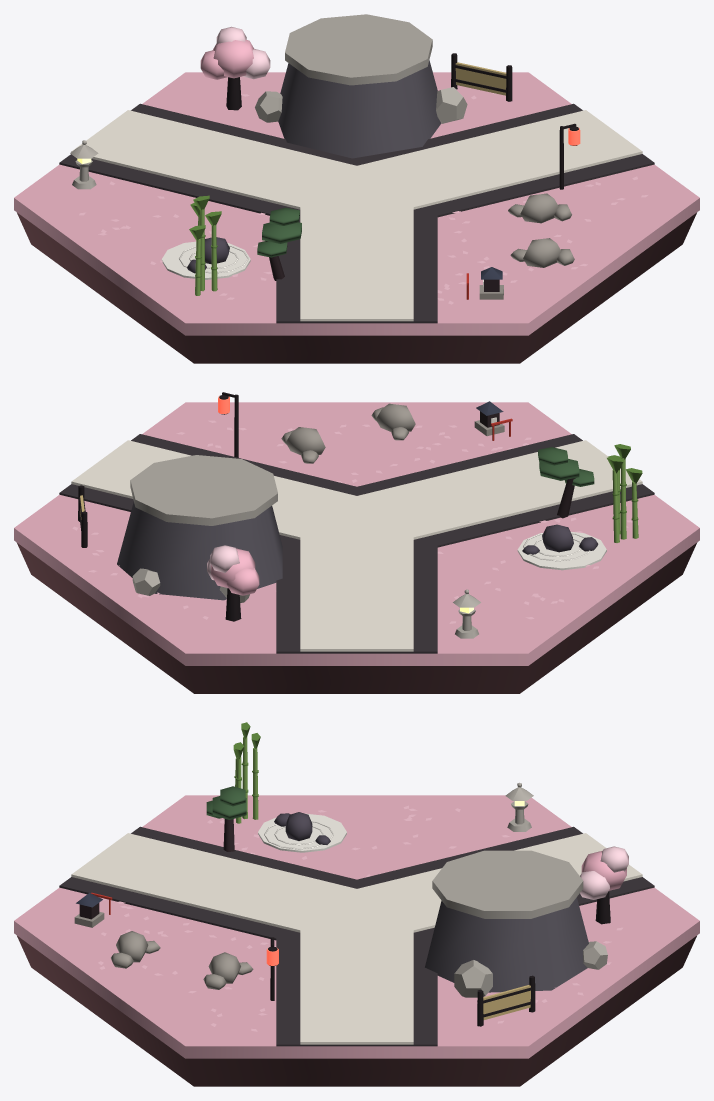
Rendered from tile_highGround.glb.
3 views of the same model, one above another, from view 1: azimuth 30°, elevation 25°; view 2: azimuth 150°, elevation 25°; view 3: azimuth 270°, elevation 25° (orthographic).
Visible parts, largest first — view 1: ground, road, ground_soil, tower_slot_1_outcrop, tower_slot_1_plate, deco_tree_sakura, road_surface_hub, deco_karesansui_gravel, deco_bamboo, tower_slot_1, deco_matsu, deco_iwa_0 (+4 smaller); view 2: ground, road, ground_soil, tower_slot_1_outcrop, tower_slot_1_plate, road_surface_hub, deco_tree_sakura, deco_bamboo, deco_karesansui_gravel, deco_matsu, deco_karesansui, deco_petals (+3 smaller); view 3: ground, road, ground_soil, tower_slot_1_outcrop, tower_slot_1_plate, road_surface_hub, deco_tree_sakura, deco_karesansui_gravel, tower_slot_1, deco_bamboo, deco_karesansui, deco_iwa_0 (+4 smaller).
Part boxes in pixels (x1=…): ground: x1=14, y1=72, x2=699, y2=335; road: x1=59, y1=103, x2=654, y2=323; ground_soil: x1=17, y1=212, x2=696, y2=363; tower_slot_1_outcrop: x1=278, y1=60, x2=441, y2=158; tower_slot_1_plate: x1=285, y1=14, x2=432, y2=85; deco_tree_sakura: x1=200, y1=26, x2=270, y2=79; road_surface_hub: x1=314, y1=169, x2=412, y2=193; deco_karesansui_gravel: x1=161, y1=241, x2=250, y2=279; deco_bamboo: x1=189, y1=195, x2=221, y2=295; tower_slot_1: x1=255, y1=87, x2=467, y2=123; deco_matsu: x1=257, y1=207, x2=301, y2=257; deco_iwa_0: x1=508, y1=193, x2=571, y2=223; ground: x1=14, y1=402, x2=699, y2=665; road: x1=59, y1=434, x2=654, y2=653; ground_soil: x1=16, y1=542, x2=697, y2=693; tower_slot_1_outcrop: x1=117, y1=501, x2=282, y2=600; tower_slot_1_plate: x1=130, y1=455, x2=277, y2=525; road_surface_hub: x1=301, y1=500, x2=412, y2=547; deco_tree_sakura: x1=207, y1=545, x2=259, y2=595; deco_bamboo: x1=607, y1=444, x2=642, y2=542; deco_karesansui_gravel: x1=517, y1=531, x2=606, y2=570; deco_matsu: x1=538, y1=447, x2=594, y2=486; deco_karesansui: x1=522, y1=524, x2=598, y2=561; deco_petals: x1=72, y1=420, x2=632, y2=623; ground: x1=14, y1=795, x2=699, y2=1058; road: x1=59, y1=826, x2=654, y2=1046; ground_soil: x1=17, y1=936, x2=696, y2=1086; tower_slot_1_outcrop: x1=425, y1=897, x2=588, y2=992; tower_slot_1_plate: x1=432, y1=850, x2=583, y2=918; road_surface_hub: x1=300, y1=892, x2=413, y2=916; deco_tree_sakura: x1=580, y1=846, x2=628, y2=899; deco_karesansui_gravel: x1=258, y1=813, x2=346, y2=852; tower_slot_1: x1=454, y1=941, x2=607, y2=997; deco_bamboo: x1=233, y1=722, x2=260, y2=823; deco_karesansui: x1=264, y1=812, x2=333, y2=849; deco_iwa_0: x1=203, y1=952, x2=253, y2=989.
Size of the model in its own units: 1.73 by 0.445 by 2.
